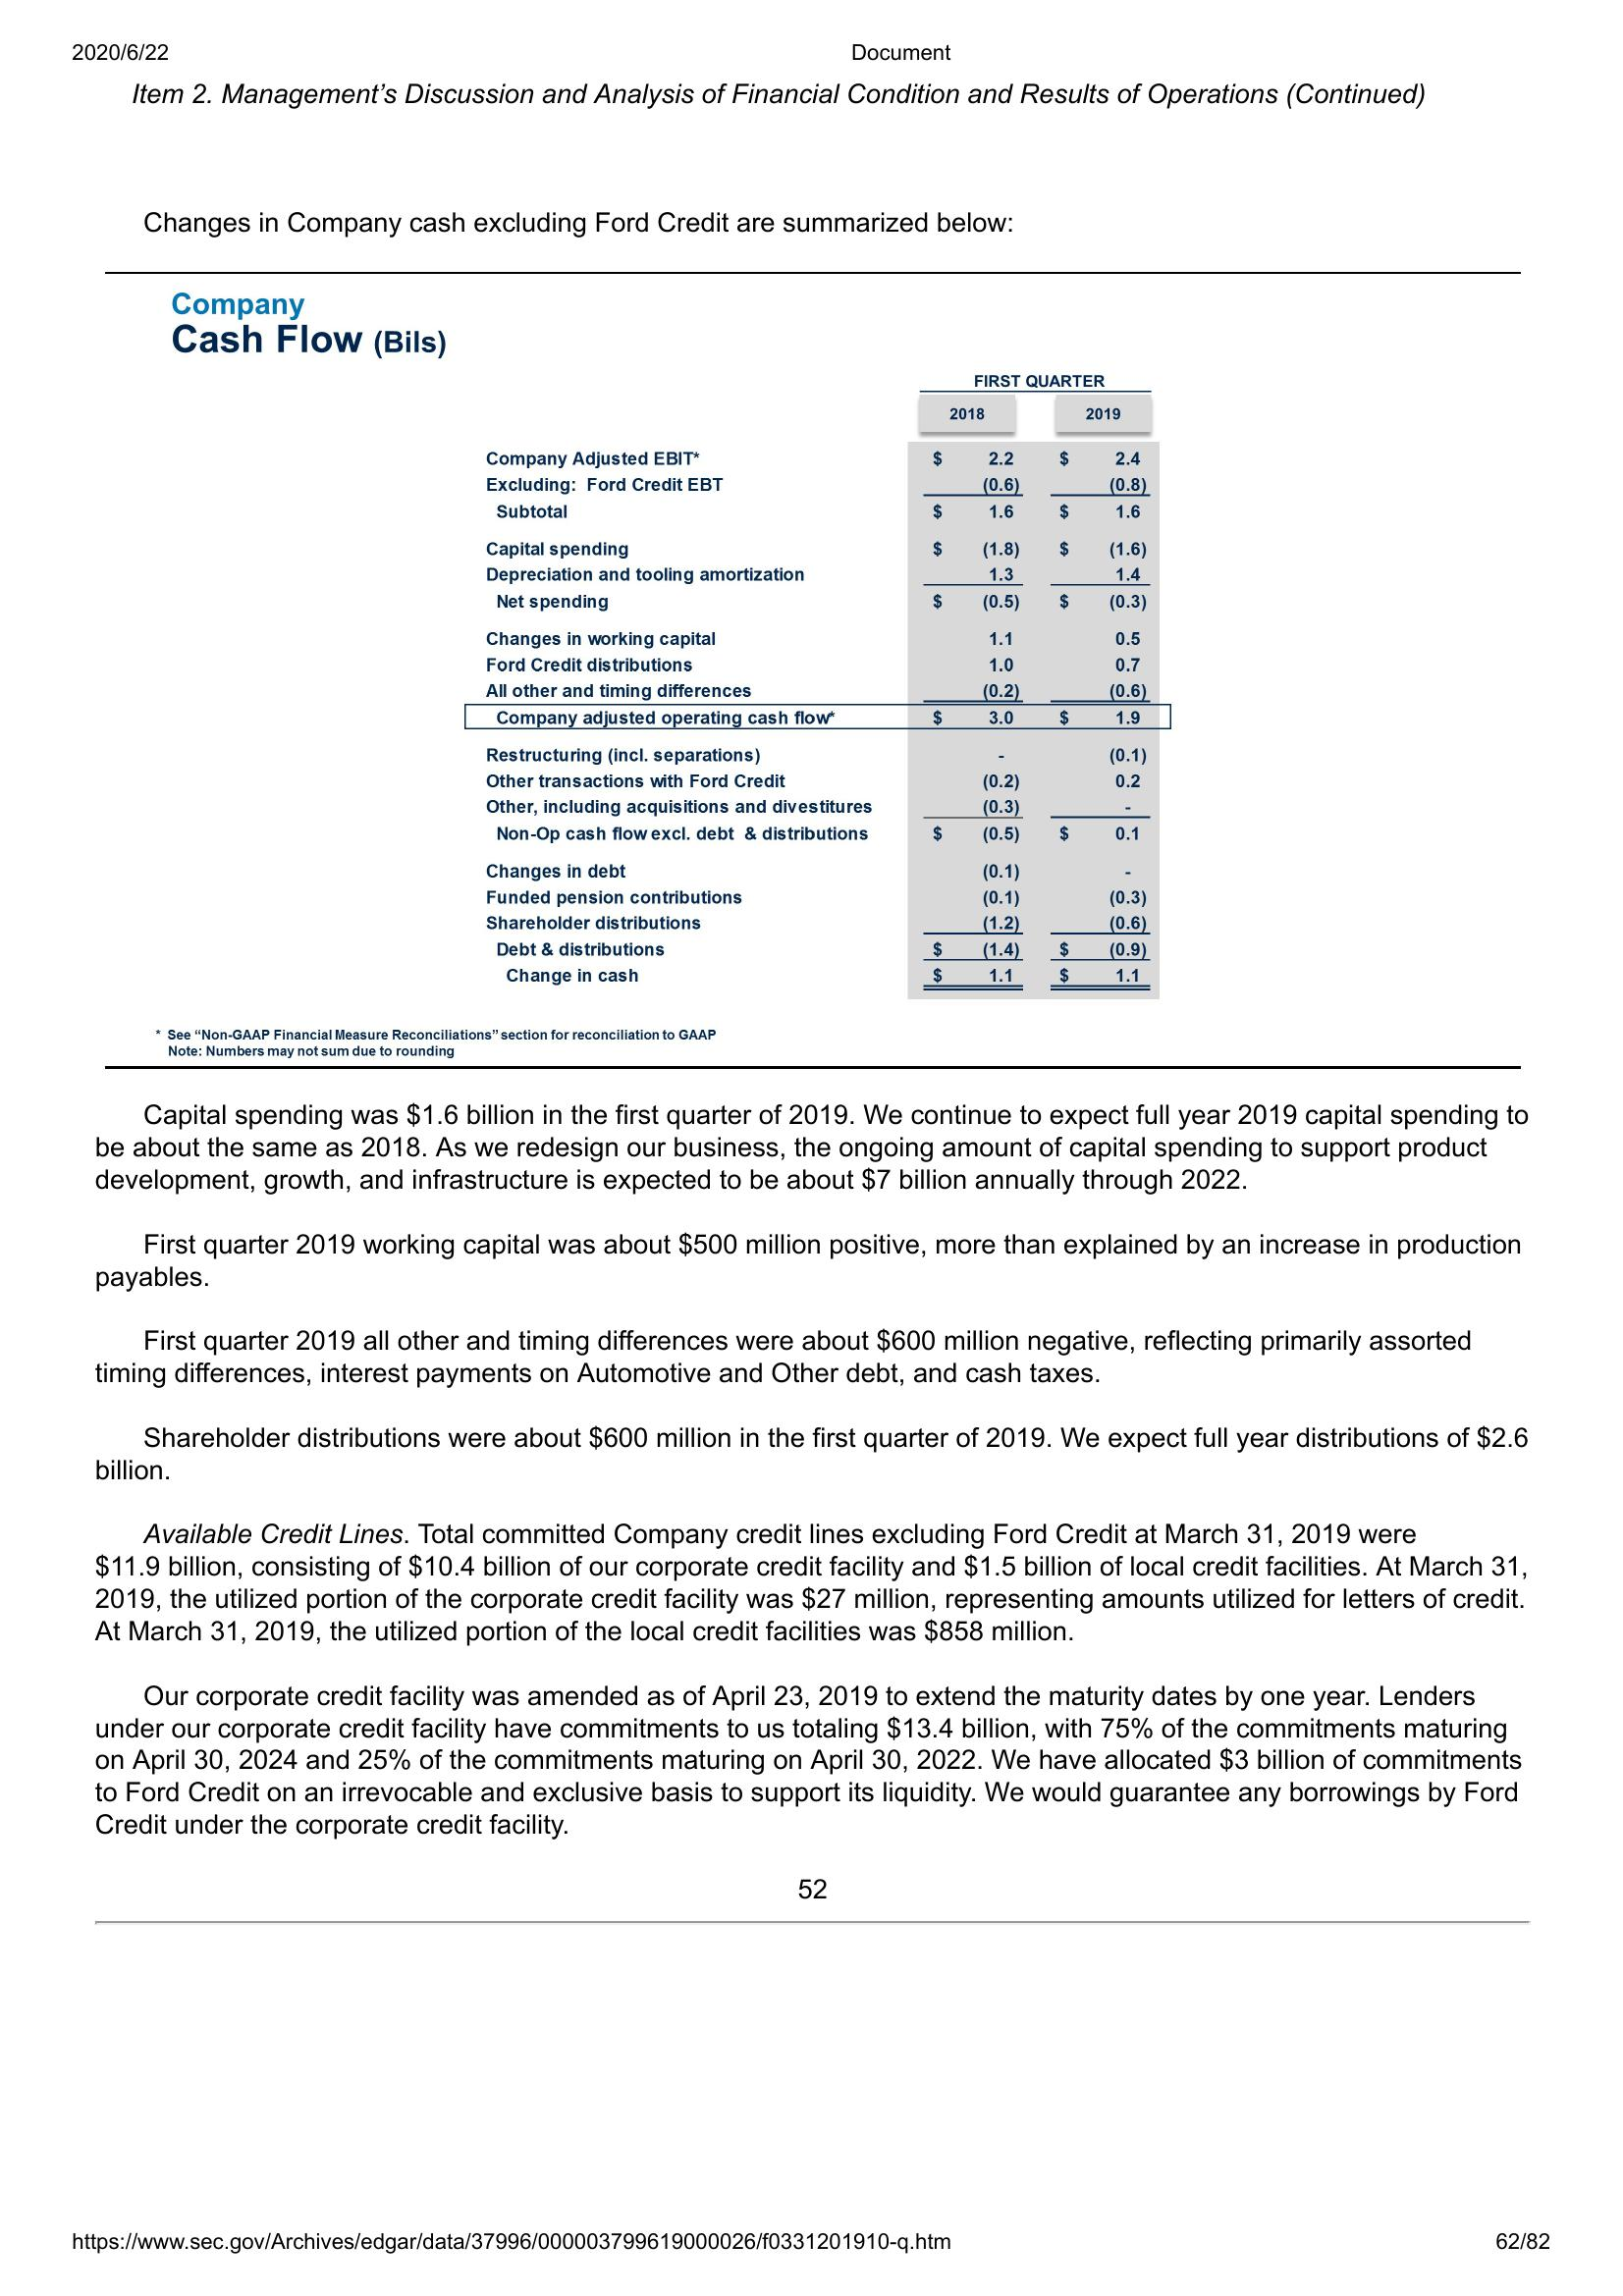table: (460, 369, 1175, 999)
